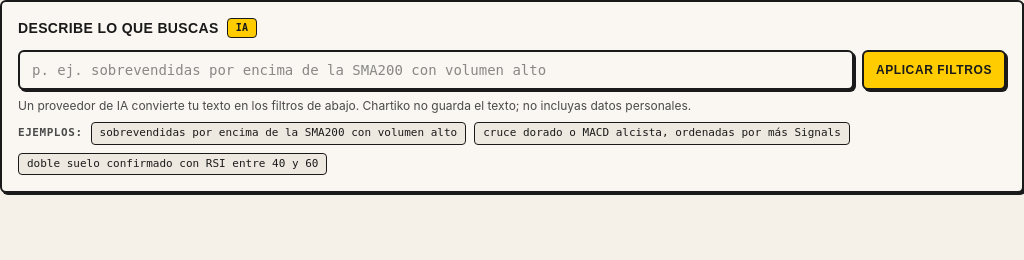
it: ScreenerAiQuery › shows the daily-limit message from the server
Replace the text in the field named "Búsqueda en tus palabras" with "sobrevendidas" at [436, 70], box top-left (18, 50), bottom-right (854, 90)
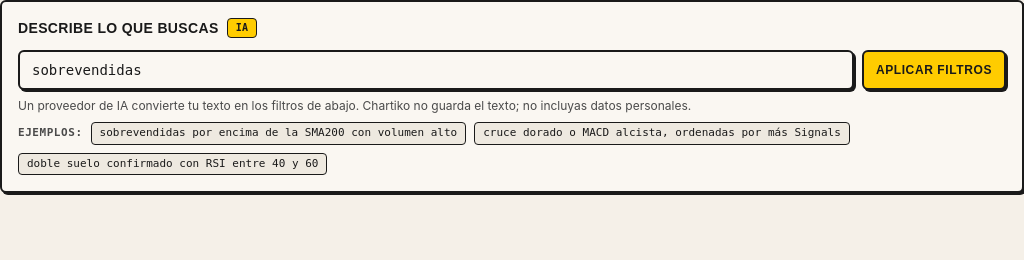
Click the button "Aplicar filtros" at [934, 70], box top-left (862, 50), bottom-right (1006, 90)
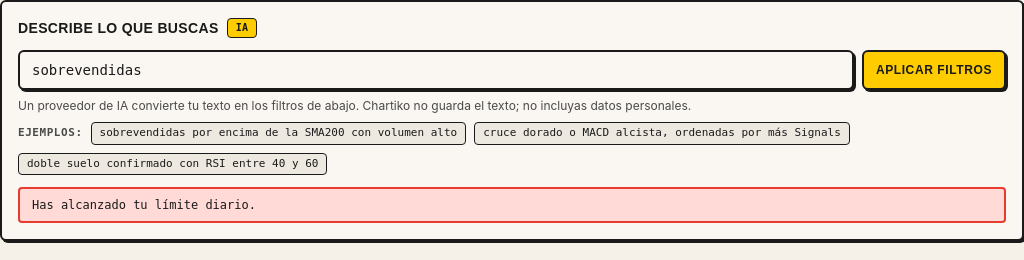
Result: the message reads "Has alcanzado tu límite diario." at top-left (32, 198), bottom-right (256, 212)
